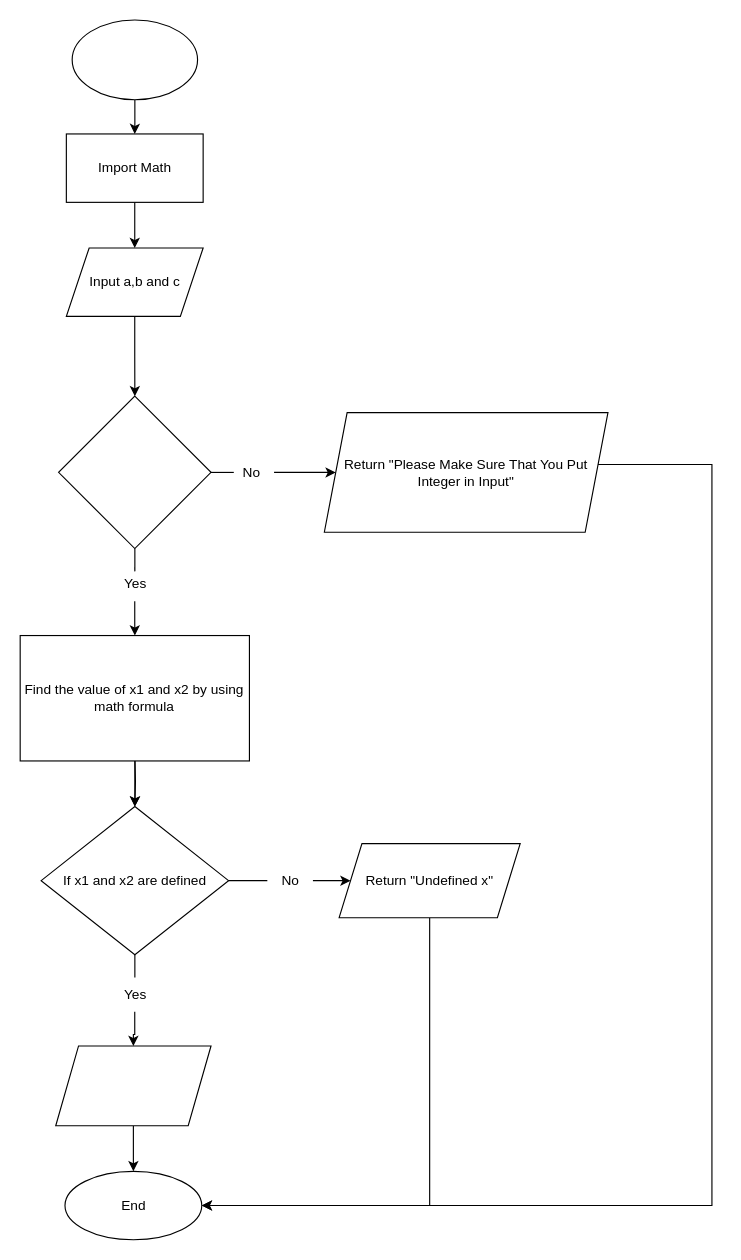
Some shapes in this 741 by 1260 pixel diagram are drawn without their labels. The shapes that lost their labels are listed below. From the top down, each one's box as (x1, y1, x2, y2) in pixels, then its label:
(71, 19, 198, 100): Start
(57, 395, 211, 549): If inputs are integer
(55, 1045, 211, 1126): Return x1 and x2
